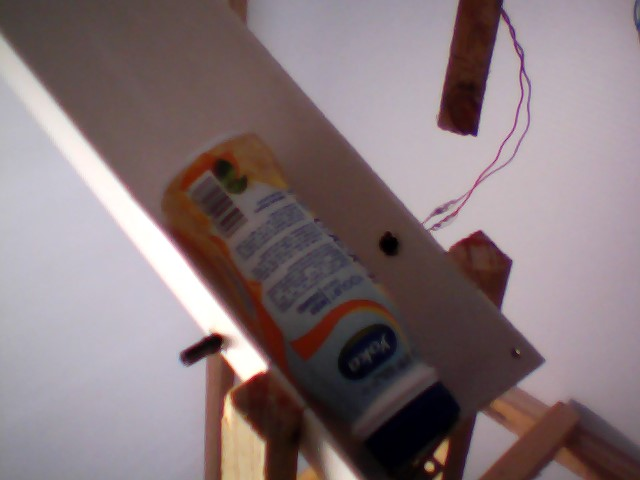plastico: (151, 126, 466, 480)
